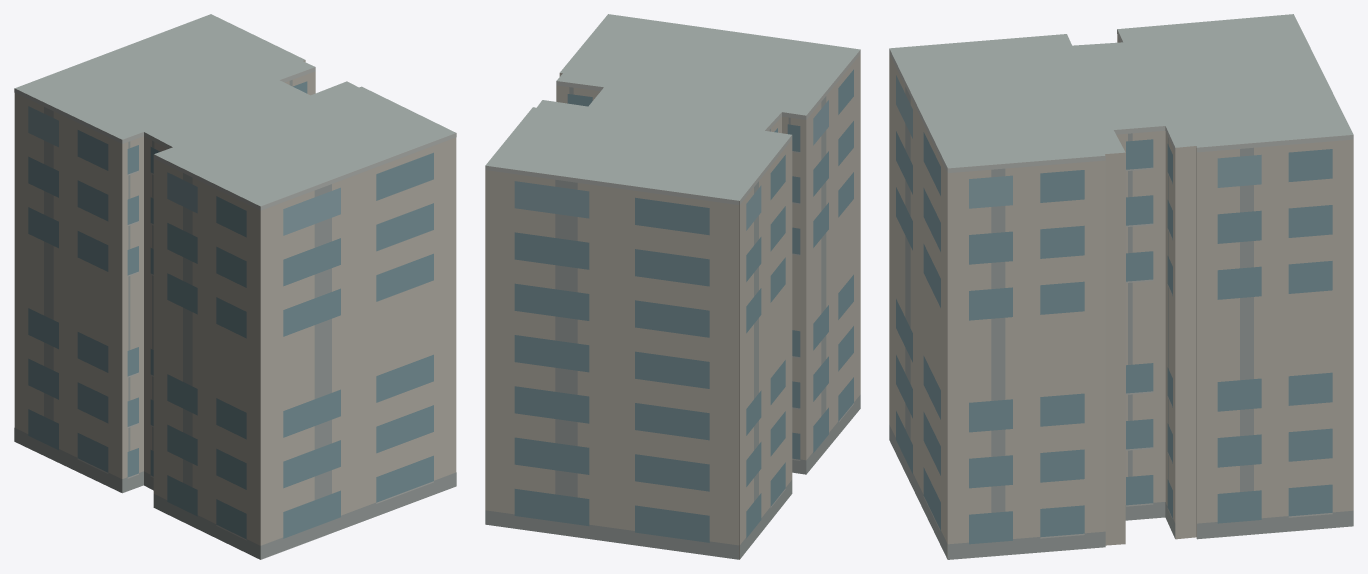
The model's file is survey-upis-32697669.glb.
3 renders of one model, left to right at view 1: azimuth 30°, elevation 25°; view 2: azimuth 150°, elevation 25°; view 3: azimuth 270°, elevation 25°, orthographic. The views are drawn at different scales.
Parts seen in each view (by area): view 1: survey-upis-32697669.tmp; view 2: survey-upis-32697669.tmp; view 3: survey-upis-32697669.tmp.
Boxes of the visible parts, x1=… form: survey-upis-32697669.tmp: x1=14, y1=14, x2=456, y2=559; survey-upis-32697669.tmp: x1=485, y1=14, x2=860, y2=559; survey-upis-32697669.tmp: x1=889, y1=14, x2=1353, y2=559.
Size of the model in its own units: 16.93 by 20 by 21.51.
